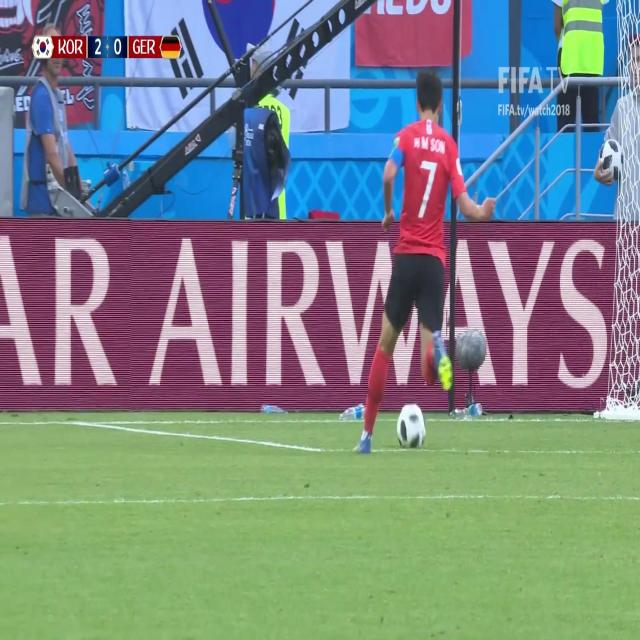ball: (394, 396, 430, 458)
player: (358, 59, 490, 448)
